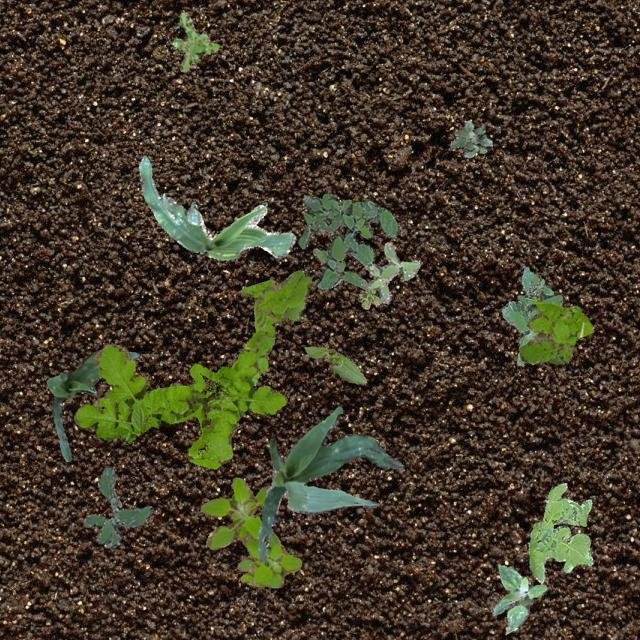crop: (256, 406, 402, 564), (138, 154, 294, 260), (46, 348, 138, 461), (304, 344, 366, 384)
weed: (72, 342, 286, 468), (200, 476, 300, 586), (297, 192, 398, 288), (240, 270, 310, 384), (528, 482, 592, 582), (501, 266, 562, 364), (82, 464, 152, 548), (518, 300, 592, 364), (492, 564, 546, 634), (364, 242, 418, 302), (170, 11, 218, 70), (450, 120, 490, 156), (358, 284, 381, 308)
